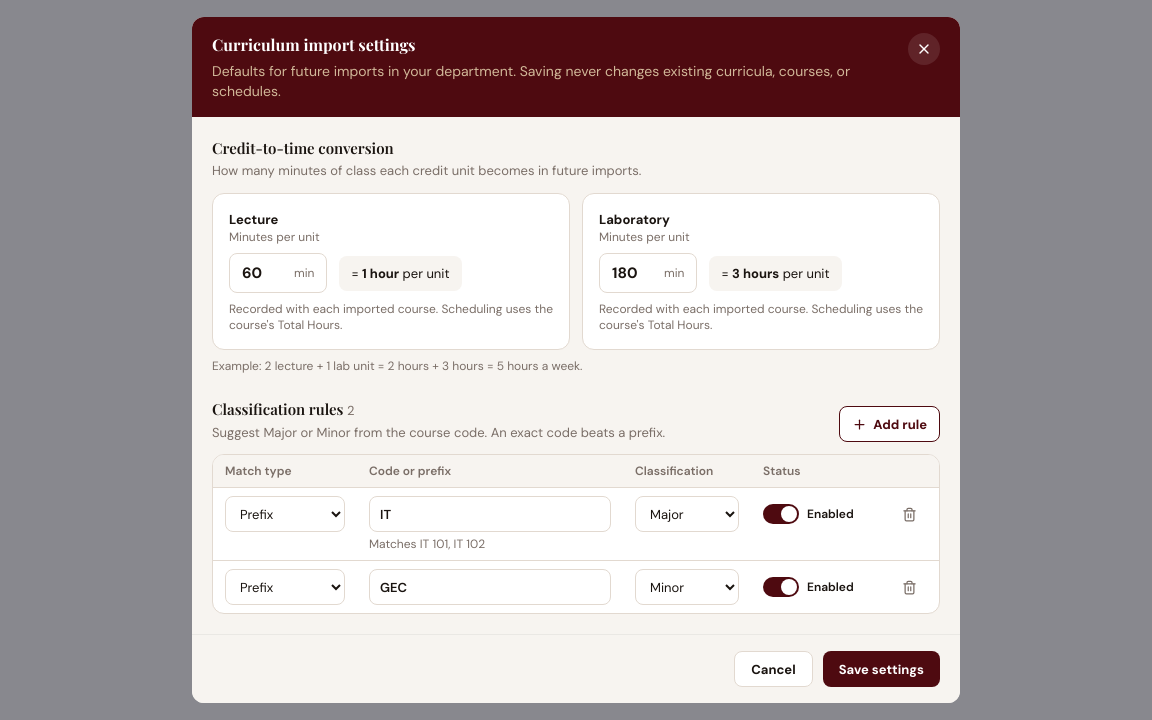
it: curriculum import settings modal › shows each rate with its calculated hours and blocks rates off the scheduling grid
Expected: the text "Example: 2 lecture + 1 lab unit = 2 hours + 3 hours = 5 hours a week" is shown, [212,358,582,374]
Expected: the element with id "lecture_minutes_per_unit-equivalent" reads "= 1 hour per unit", [340,256,462,291]
Replace the text in the number field labelled "Lecture" with "75" at (262, 273), box [230,254,294,292]
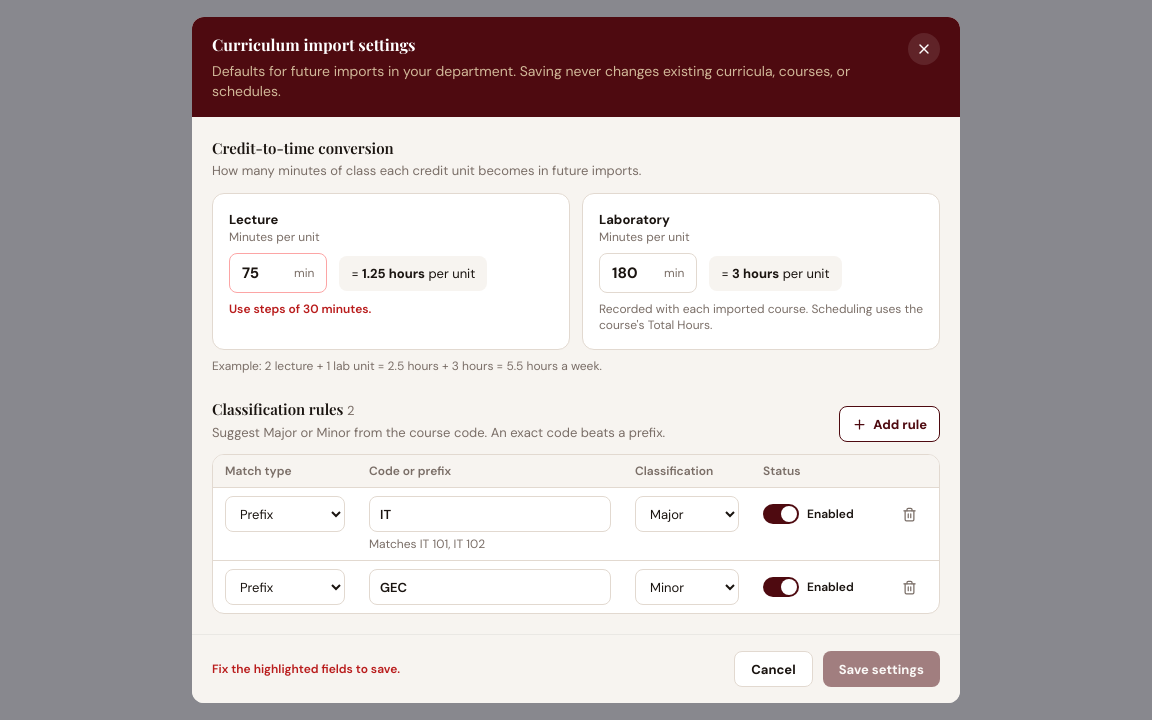
Now the text "Use steps of 30 minutes." is shown, box [229,301,371,317]
Now the button "Save settings" is disabled, box [823,651,940,687]
Replace the text in the number field labelled "Lecture" with "90" at (262, 273), box [230,254,294,292]
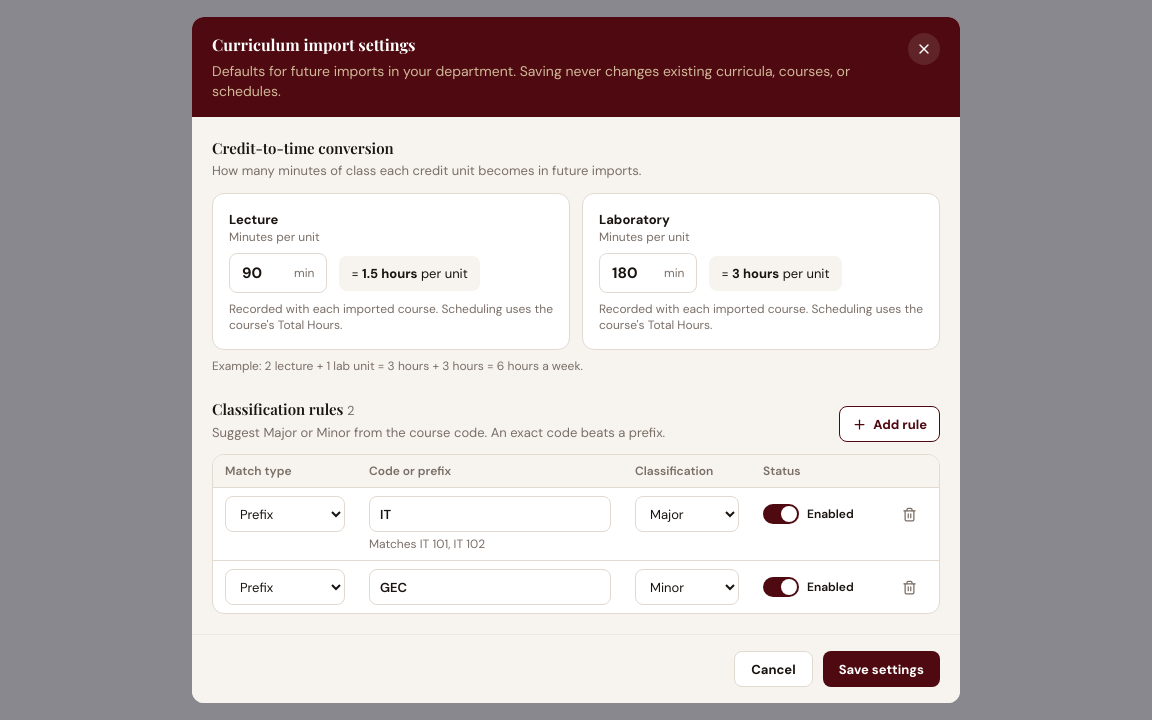
Now the element with id "lecture_minutes_per_unit-equivalent" reads "= 1.5 hours per unit", box [340,256,480,291]
Now the text "Recorded with each imported course. Scheduling uses the course's Total Hours." is shown 2 times, box [229,301,553,333]; [599,301,923,333]
Now the button "Save settings" is enabled, box [823,651,940,687]
